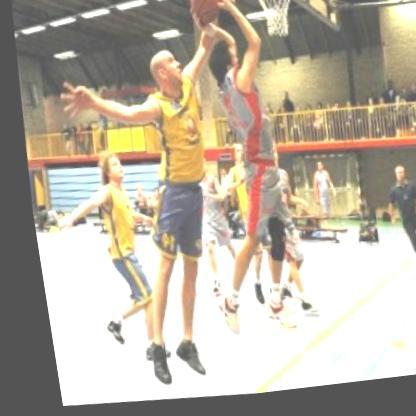basketball: (178, 0, 231, 32)
